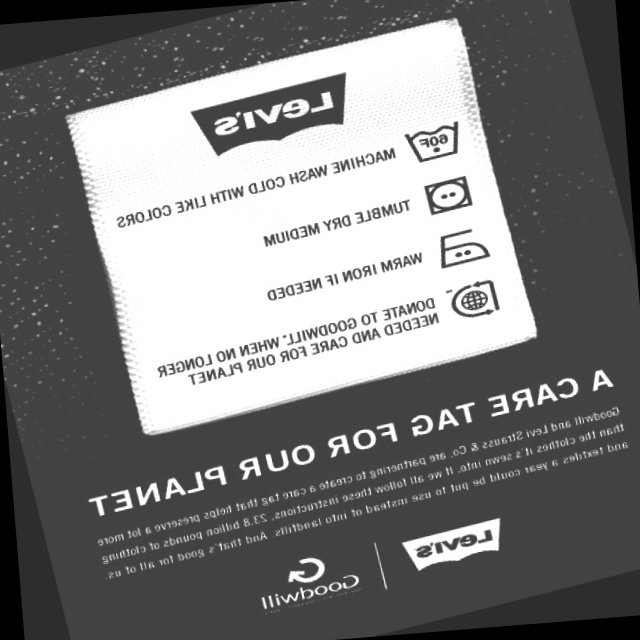30C: (398, 111, 469, 171)
iron_medium: (427, 219, 495, 276)
tumble_dry_medium: (417, 171, 480, 222)
